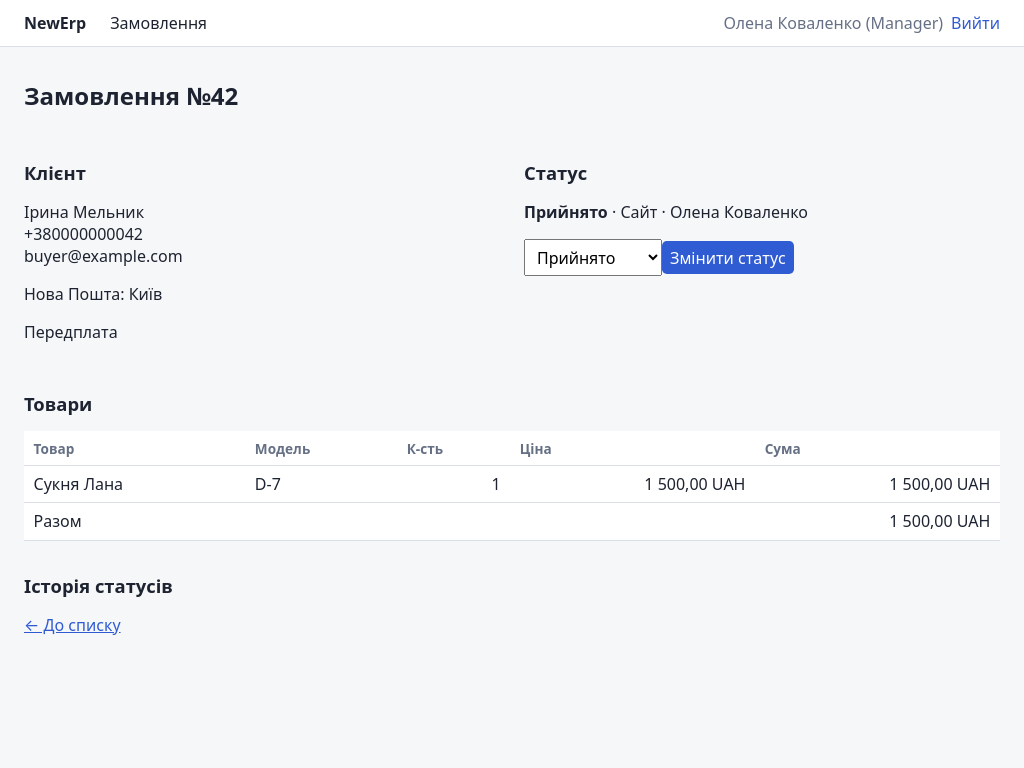
orders › changes the status on the order card and shows the warnings of other modules
The width and height of the screenshot is (1024, 768).
Step 1. Select "Відправлено" in the dropdown named "Новий статус" → (593, 258), box [524,239,662,276]
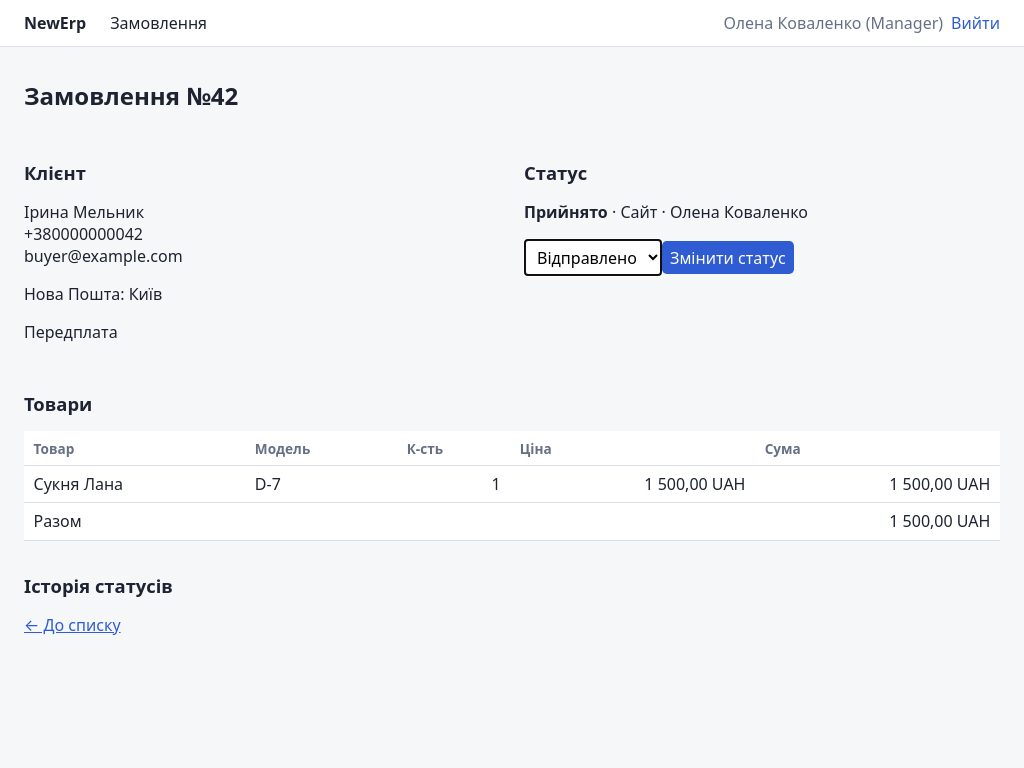
Step 2. Click the button "Змінити статус" → (728, 258), box [662,241,794,274]
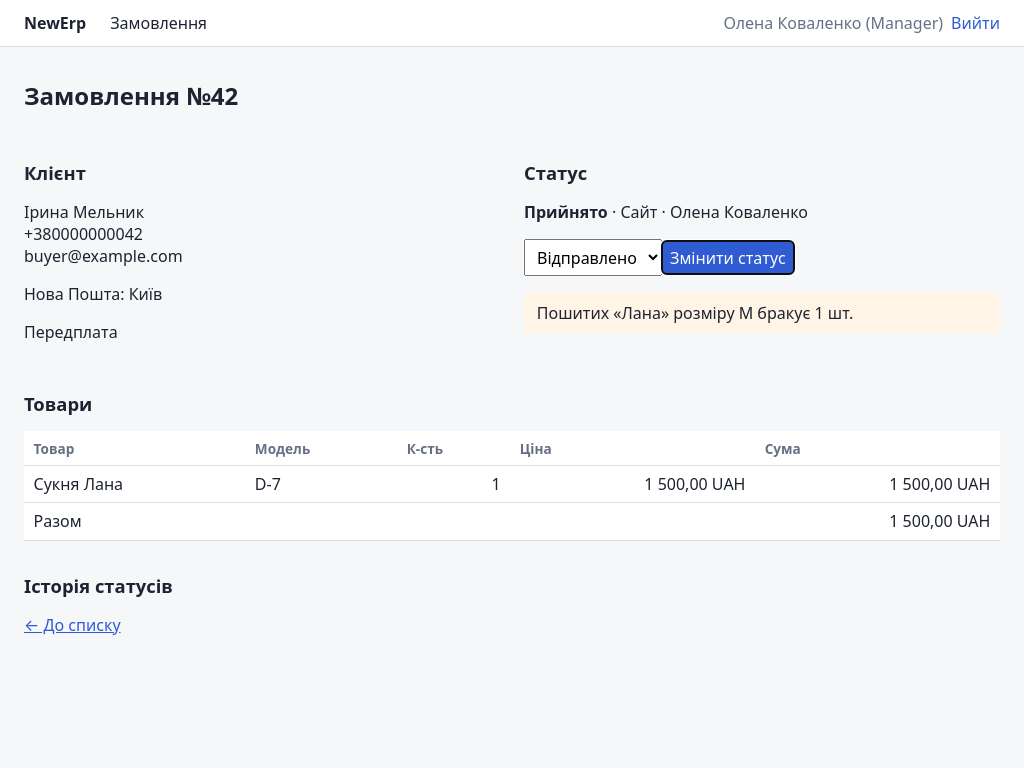
Now the message reads "Пошитих «Лана» розміру M бракує 1 шт.", box [537,302,853,324]
